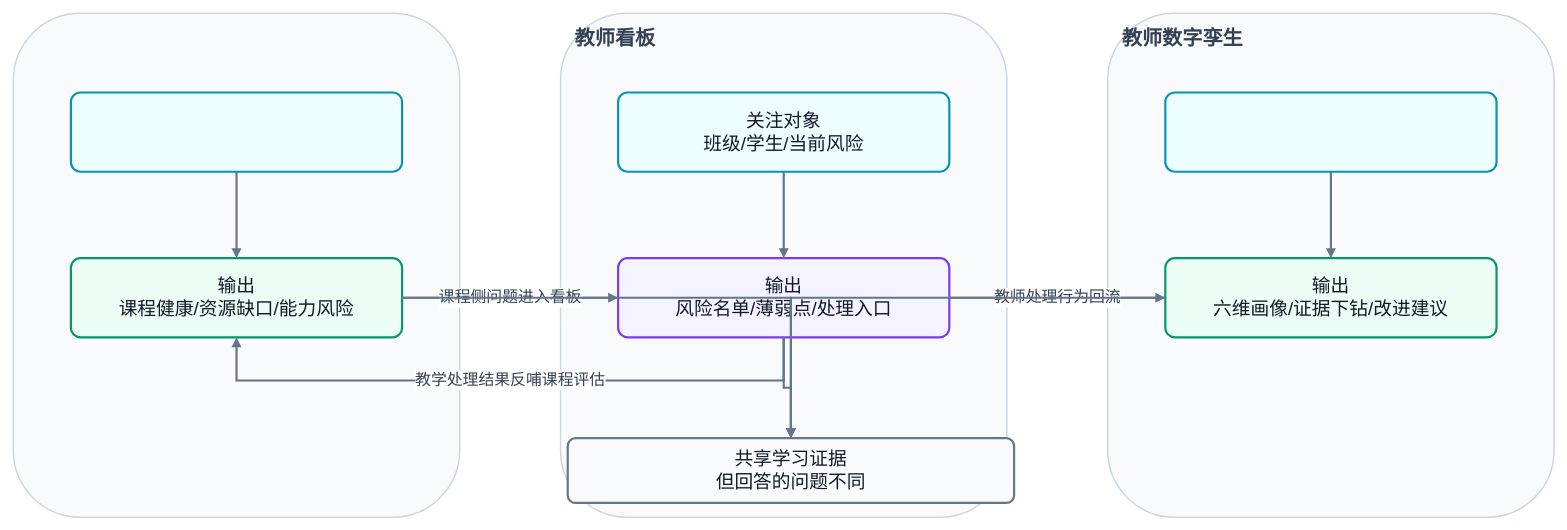
This 1567x530 diagram has some shape labels left out. Here are the shapes that lost their labels. From the top down, the box of each, then its label:
(69, 91, 403, 172): 关注对象 课程/章节/知识点/资源/能力
(1164, 91, 1497, 172): 关注对象 教师教学支持行为
(12, 12, 460, 518): 课程数字孪生
